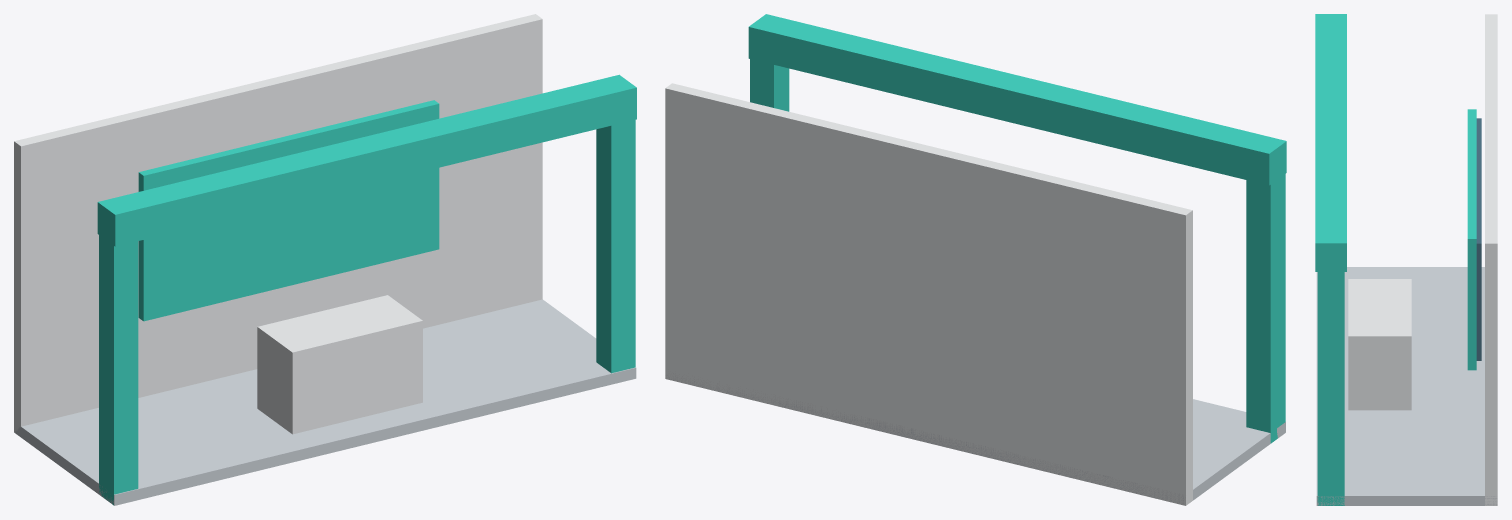
3 renders of one model, left to right at view 1: azimuth 30°, elevation 25°; view 2: azimuth 150°, elevation 25°; view 3: azimuth 270°, elevation 25°, orthographic. The views are drawn at different scales.
Parts seen in each view (by area): view 1: Exhibition Booth Concept; view 2: Exhibition Booth Concept; view 3: Exhibition Booth Concept.
Part boxes in pixels (x1,y1,x2,y2): Exhibition Booth Concept: (14,14,636,505); Exhibition Booth Concept: (665,14,1286,505); Exhibition Booth Concept: (1315,14,1497,505).
Size of the model in its own units: 6 by 3.2 by 2.01.
